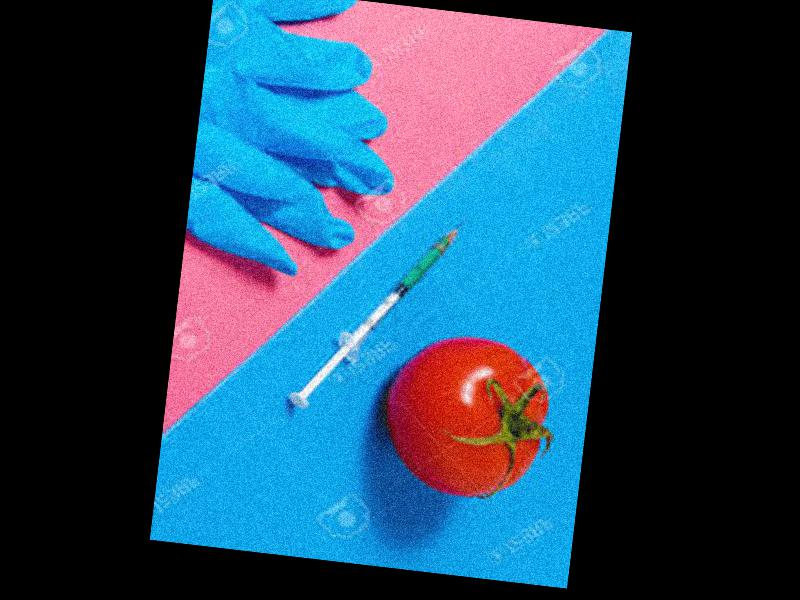Tomato: (375, 328, 553, 502)
